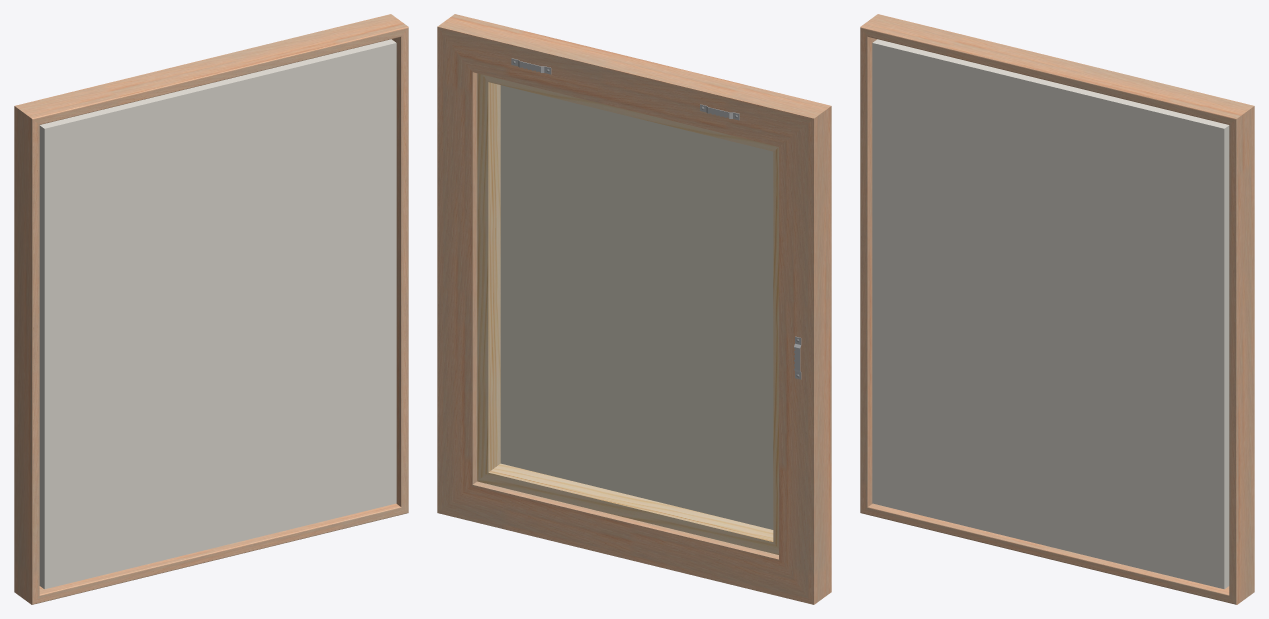
Rendered from delivery.glb.
The picture shows the model from 3 angles, left to right: view 1: azimuth 30°, elevation 25°; view 2: azimuth 150°, elevation 25°; view 3: azimuth 330°, elevation 25°; orthographic projection.
Visible parts, largest first — view 1: Canvas artwork front, Tray approved profile 0; view 2: Canvas linen reverse, Tray approved profile 0, Stretcher top, Sawtooth hanger 0; view 3: Canvas artwork front, Tray approved profile 0.
Boxes of the visible parts, box(x1,y1,x2,y2) form: Canvas artwork front: box(39, 39, 396, 589); Tray approved profile 0: box(14, 14, 408, 604); Canvas linen reverse: box(500, 85, 773, 529); Tray approved profile 0: box(437, 14, 831, 604); Stretcher top: box(477, 73, 778, 554); Sawtooth hanger 0: box(511, 58, 801, 379); Canvas artwork front: box(872, 39, 1229, 589); Tray approved profile 0: box(860, 14, 1254, 604).
Size of the model in its own units: 0.428 by 0.528 by 0.0374.
Materials: 7 (3 with a texture image).
